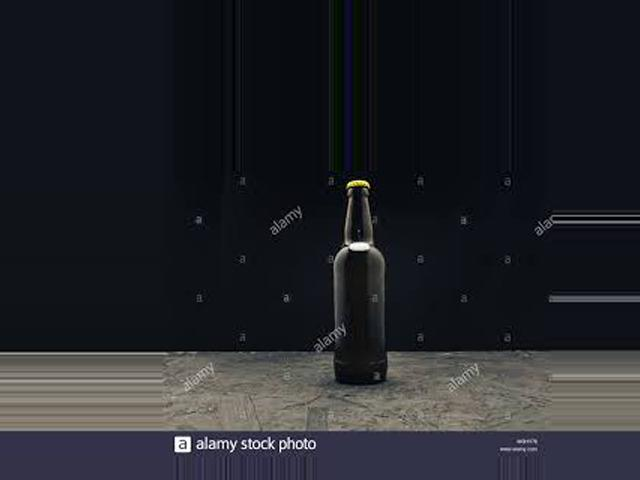beer: (338, 180, 386, 383)
